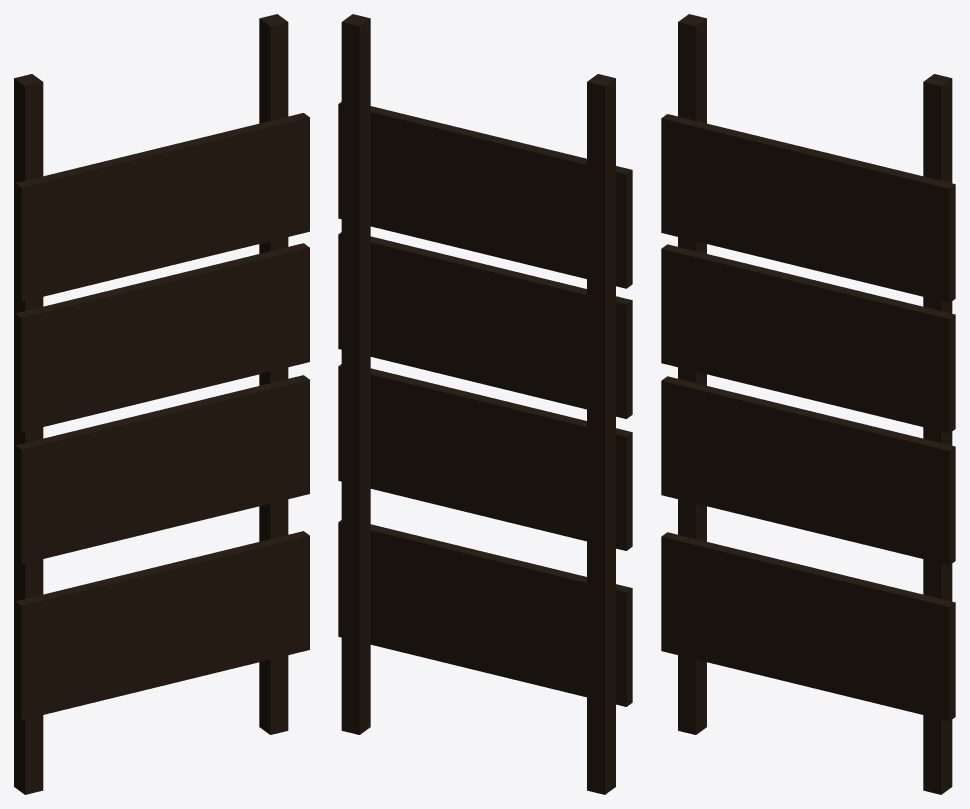
The model's file is SD2wr_rack_shields_drf.fbx.
3 renders of one model, left to right at view 1: azimuth 30°, elevation 25°; view 2: azimuth 150°, elevation 25°; view 3: azimuth 330°, elevation 25°, orthographic.
Visible parts, largest first — view 1: SD2wr_rack_shields_drf; view 2: SD2wr_rack_shields_drf; view 3: SD2wr_rack_shields_drf.
Boxes of the visible parts, x1,y1,x2,y2 form: SD2wr_rack_shields_drf: (14, 14, 309, 794); SD2wr_rack_shields_drf: (338, 14, 632, 794); SD2wr_rack_shields_drf: (661, 14, 955, 794).
Size of the model in its own units: 80.16 by 8.51 by 188.
